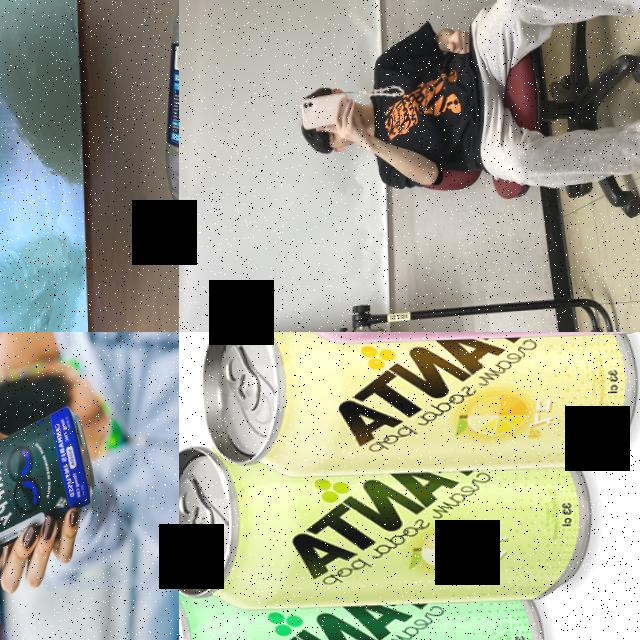can: (179, 435, 599, 609), (198, 332, 633, 481), (179, 571, 558, 640), (0, 406, 97, 549)
